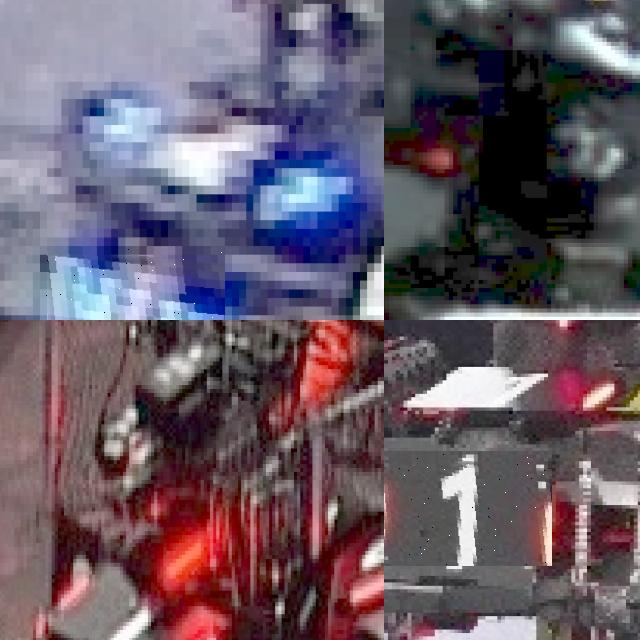B4: (40, 246, 225, 320)
R1: (384, 451, 551, 565), (54, 570, 219, 640)
